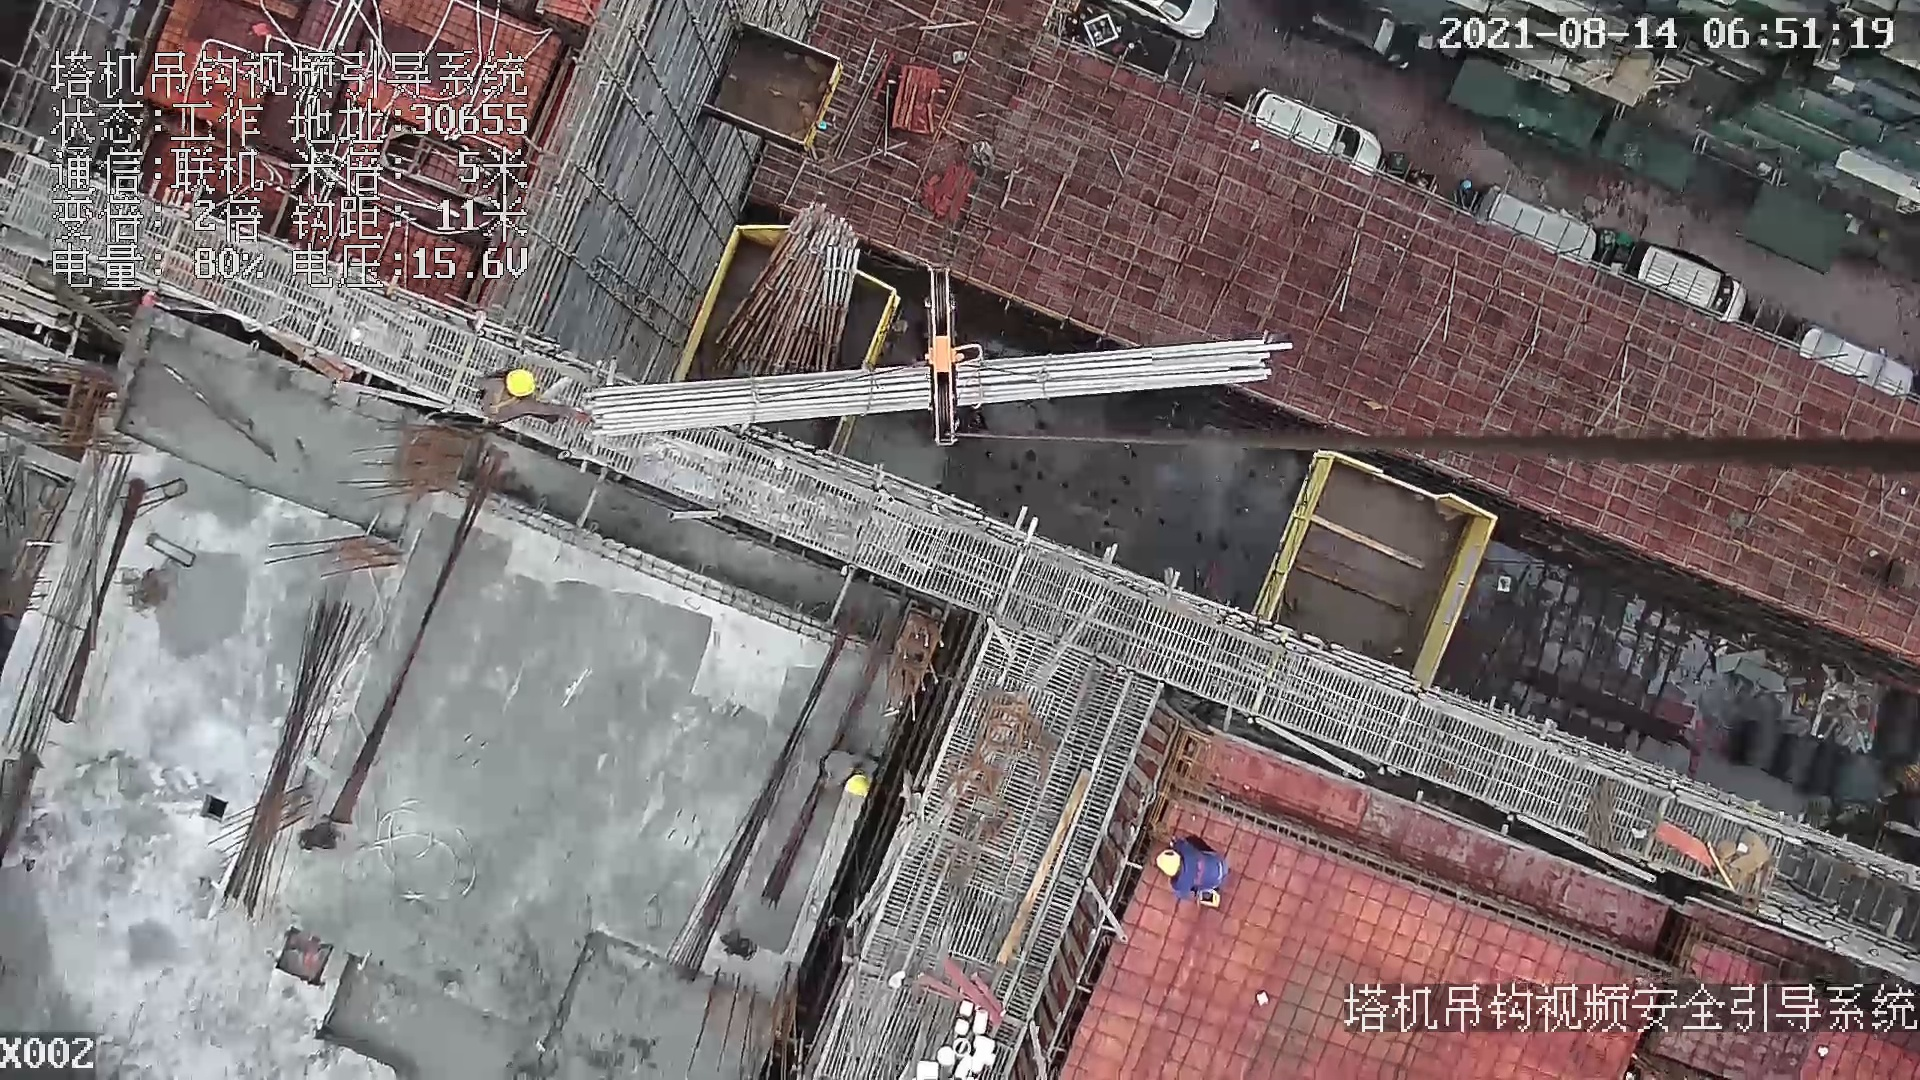helmet: (503, 370, 537, 397), (840, 773, 871, 801), (1157, 848, 1180, 877)
hook: (919, 254, 991, 445)
person: (467, 354, 603, 435), (1158, 827, 1229, 910), (820, 739, 876, 799)
rebar: (585, 341, 1281, 445), (223, 591, 373, 920)
scaffold: (712, 203, 862, 376)
